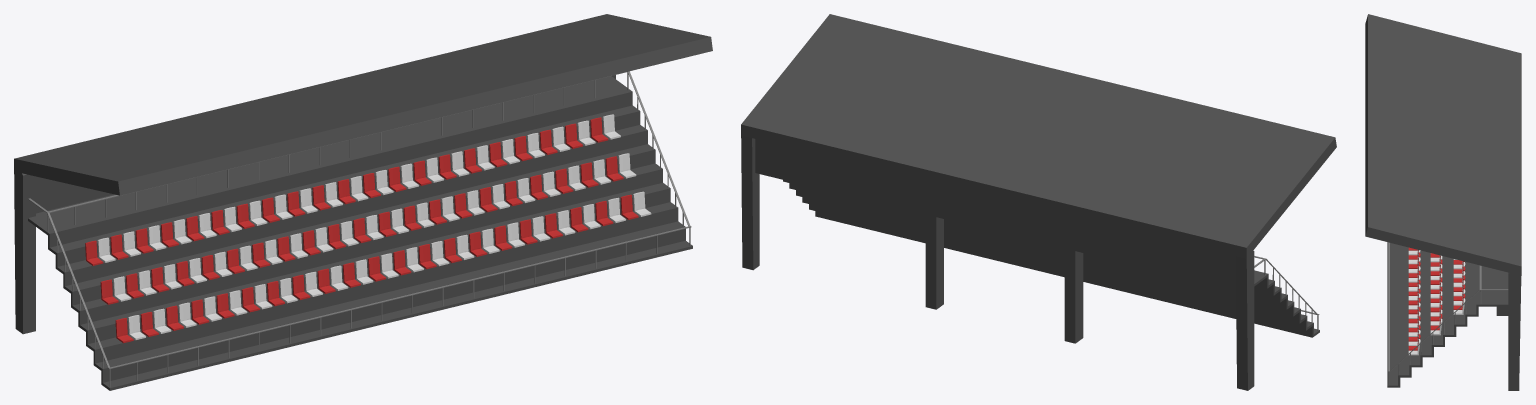
The model's file is katsomo.fbx.
3 views of the same model, side by side, from view 1: azimuth 30°, elevation 25°; view 2: azimuth 150°, elevation 25°; view 3: azimuth 270°, elevation 25° (orthographic). The views are drawn at different scales.
Parts seen in each view (by area): view 1: Plane; view 2: Plane; view 3: Plane.
Boxes of the visible parts, x1,y1,x2,y2 form: Plane: (14,14,712,390); Plane: (741,14,1336,390); Plane: (1365,14,1521,390).
Bounding box in the file's own units: 45.1 × 16.16 × 13.96.
